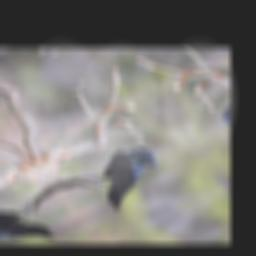Crow: (77, 140, 179, 213)
